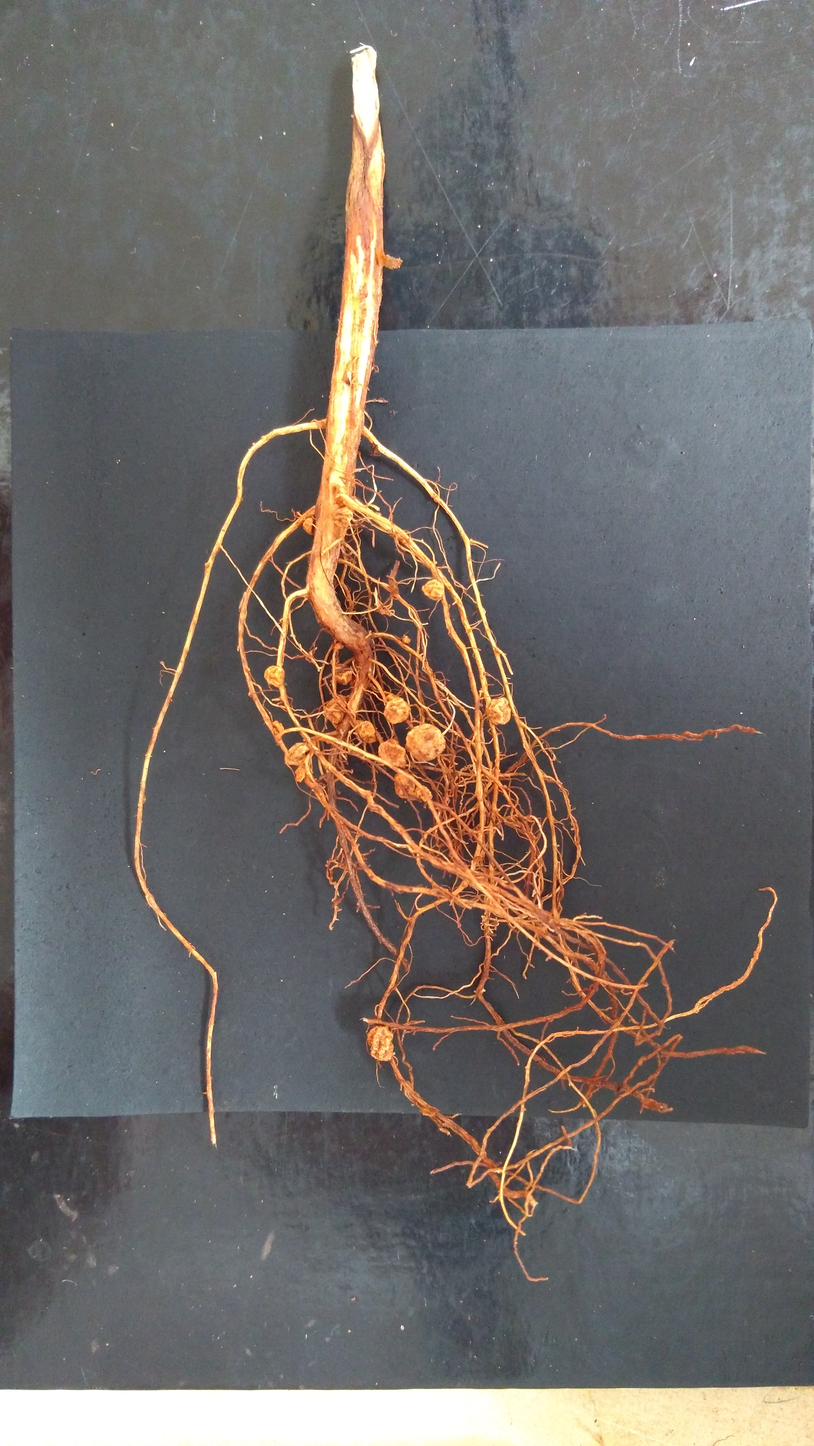nodule: (405, 723, 446, 762), (366, 1025, 395, 1061), (377, 738, 407, 768), (383, 697, 411, 724), (323, 695, 347, 724), (488, 696, 512, 725), (284, 742, 310, 764), (394, 772, 415, 799), (421, 579, 445, 601), (264, 665, 285, 688), (331, 663, 352, 686), (356, 720, 377, 743), (333, 507, 353, 527), (383, 254, 403, 271), (414, 785, 433, 802), (302, 516, 316, 536), (272, 721, 284, 741), (294, 765, 306, 783), (333, 641, 345, 651), (401, 634, 411, 645), (204, 562, 209, 568)
